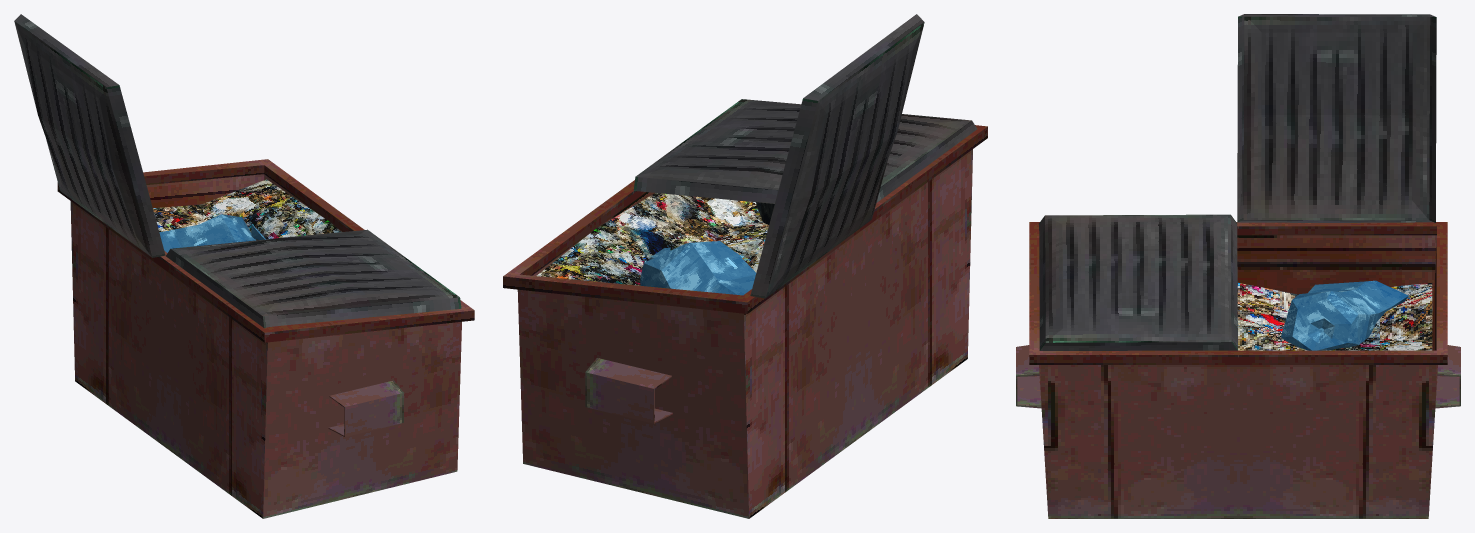
File: dumpster_diagonal_full_open_red.glb
The picture shows the model from 3 angles, left to right: view 1: azimuth 30°, elevation 25°; view 2: azimuth 150°, elevation 25°; view 3: azimuth 270°, elevation 25°; orthographic projection. The views are drawn at different scales.
Visible parts, largest first — view 1: dumpster_diagonal_full_open_red; view 2: dumpster_diagonal_full_open_red; view 3: dumpster_diagonal_full_open_red.
Part boxes in pixels (x1,y1,x2,y2): dumpster_diagonal_full_open_red: (14,14,474,518); dumpster_diagonal_full_open_red: (503,14,987,518); dumpster_diagonal_full_open_red: (1016,14,1460,518).
Bounding box in the file's own units: 2.53 × 3.48 × 3.67.
3 materials, 3 textured.
